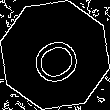O_NE: (22, 23, 88, 87)
